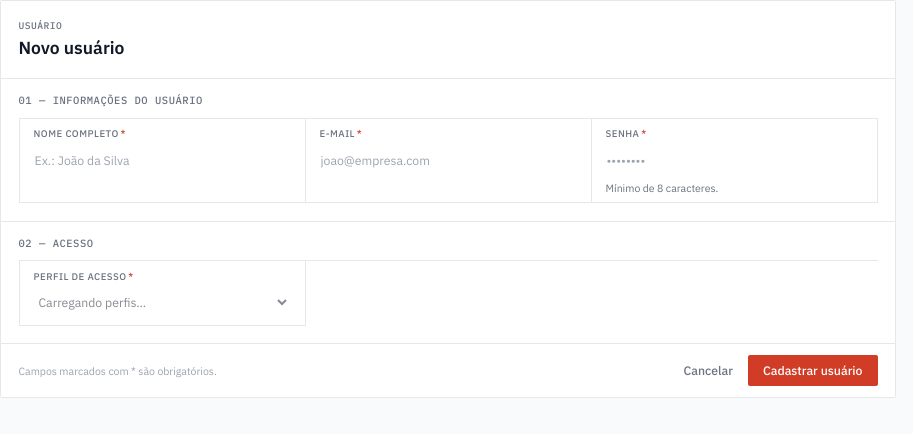
Test: UserEditPage — modo criação › deve rejeitar senha com menos de 8 caracteres
Step 1. Type "1234567" into the password field labelled "Senha" → (734, 160), box [606, 144, 862, 176]
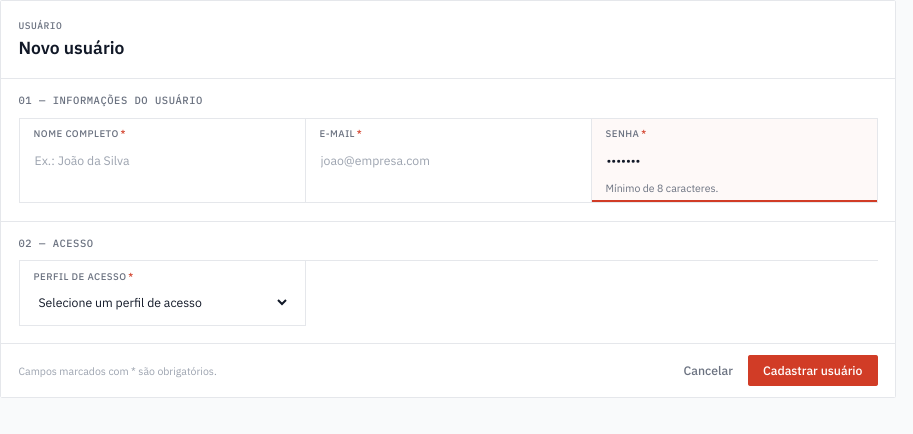
Step 2. Click the button "Cadastrar usuário" → (813, 371), box [748, 355, 878, 386]
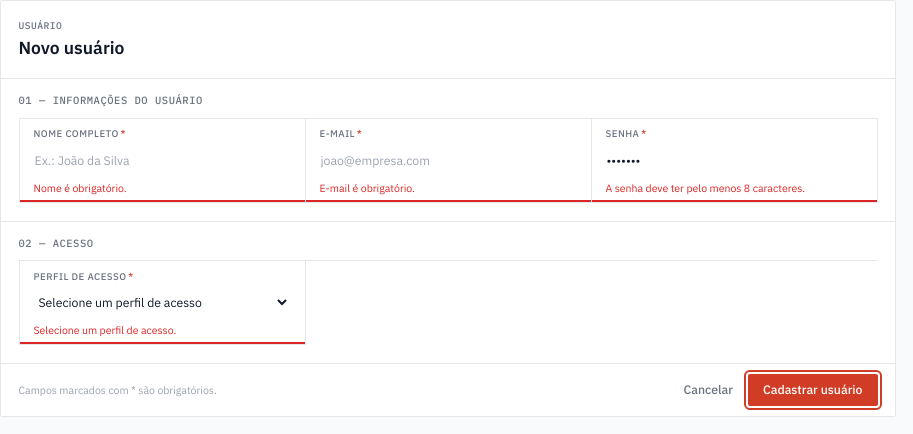
expect the text "A senha deve ter pelo menos 8 caracteres." is shown: met, box [606, 181, 805, 195]
